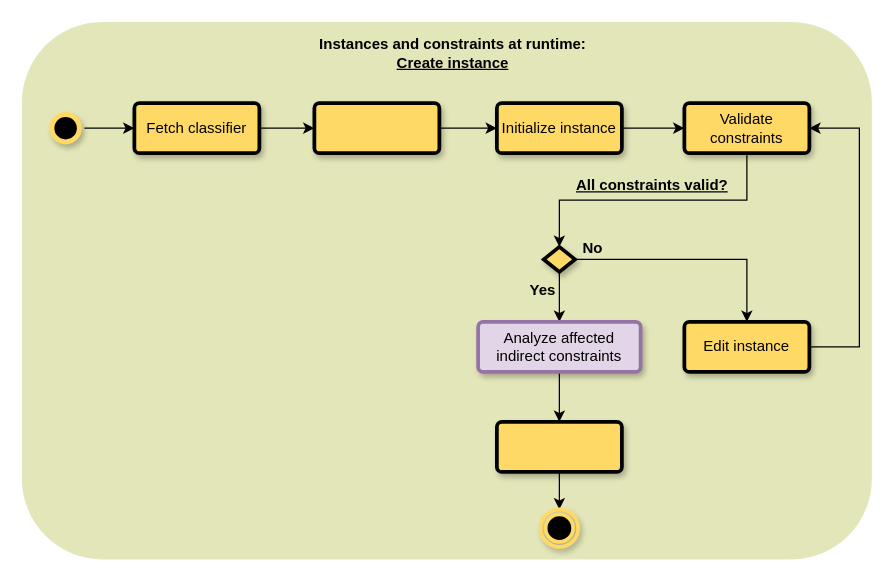
Image size: 893x580. Some labels were removed from this diagram. Each missing label, with the centre of its shape:
Create instance: point (560, 448)
Fetch constraints for classifier: point (377, 129)
